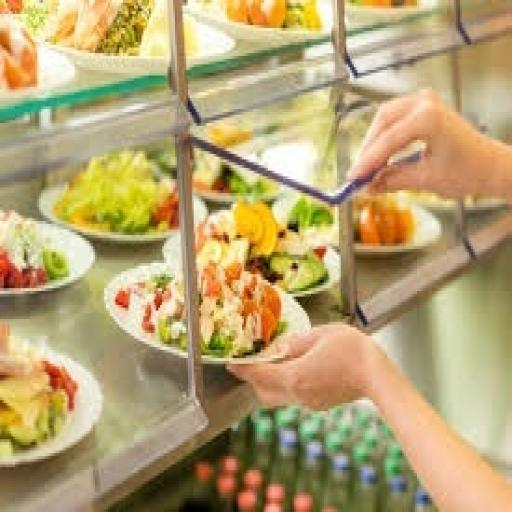eating: (224, 81, 510, 509)
